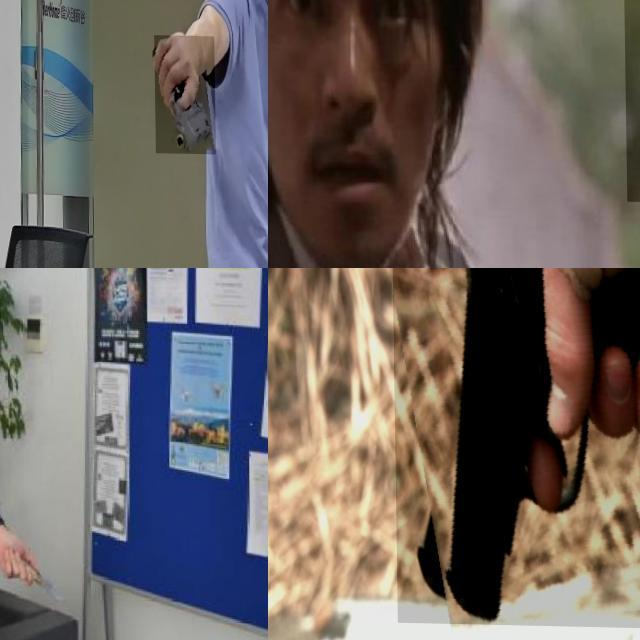-: (16, 550, 69, 604), (0, 541, 45, 585)
gun-knife-thesis - v11 Yolov5 augmented: (390, 268, 640, 628), (154, 34, 216, 154)
